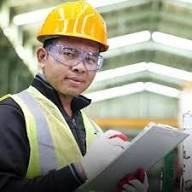safety_goggles: (35, 42, 123, 74)
